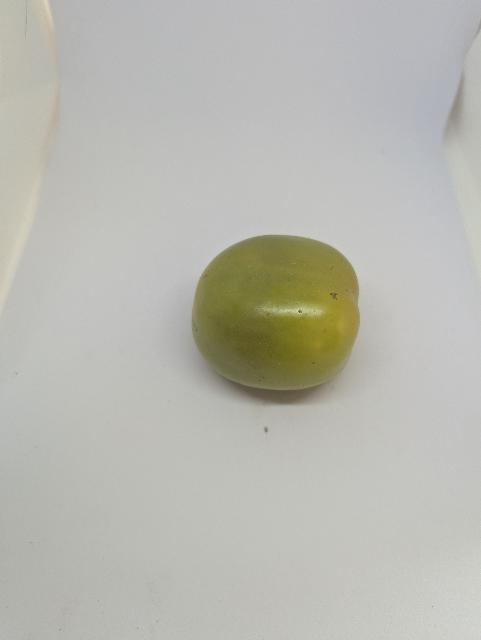green: (184, 225, 373, 409)
